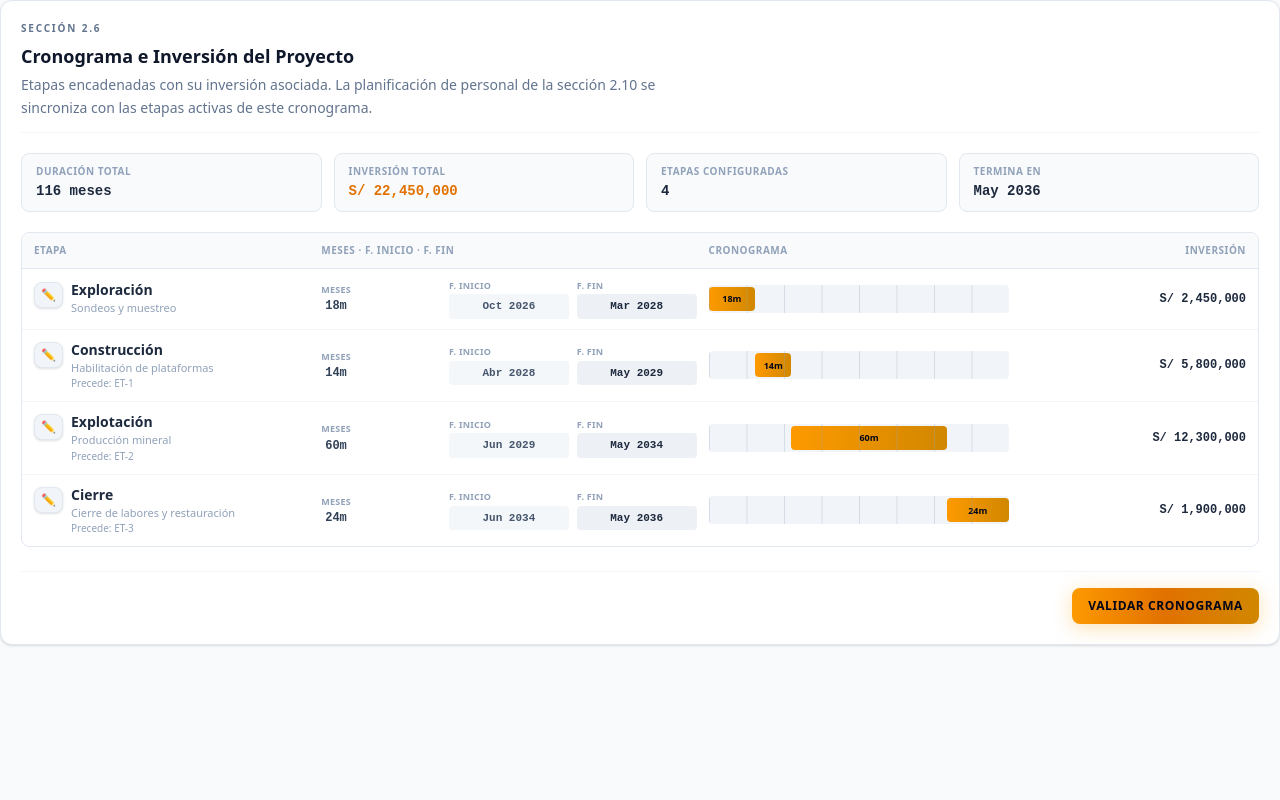
Scenario: CronogramaComponent › edición en línea de las etapas › recalcula la inversión total al escribir el monto
The width and height of the screenshot is (1280, 800).
Click the button with class "boton-editar" next to "Exploración". click: (48, 295)
box: [34,282,63,308]
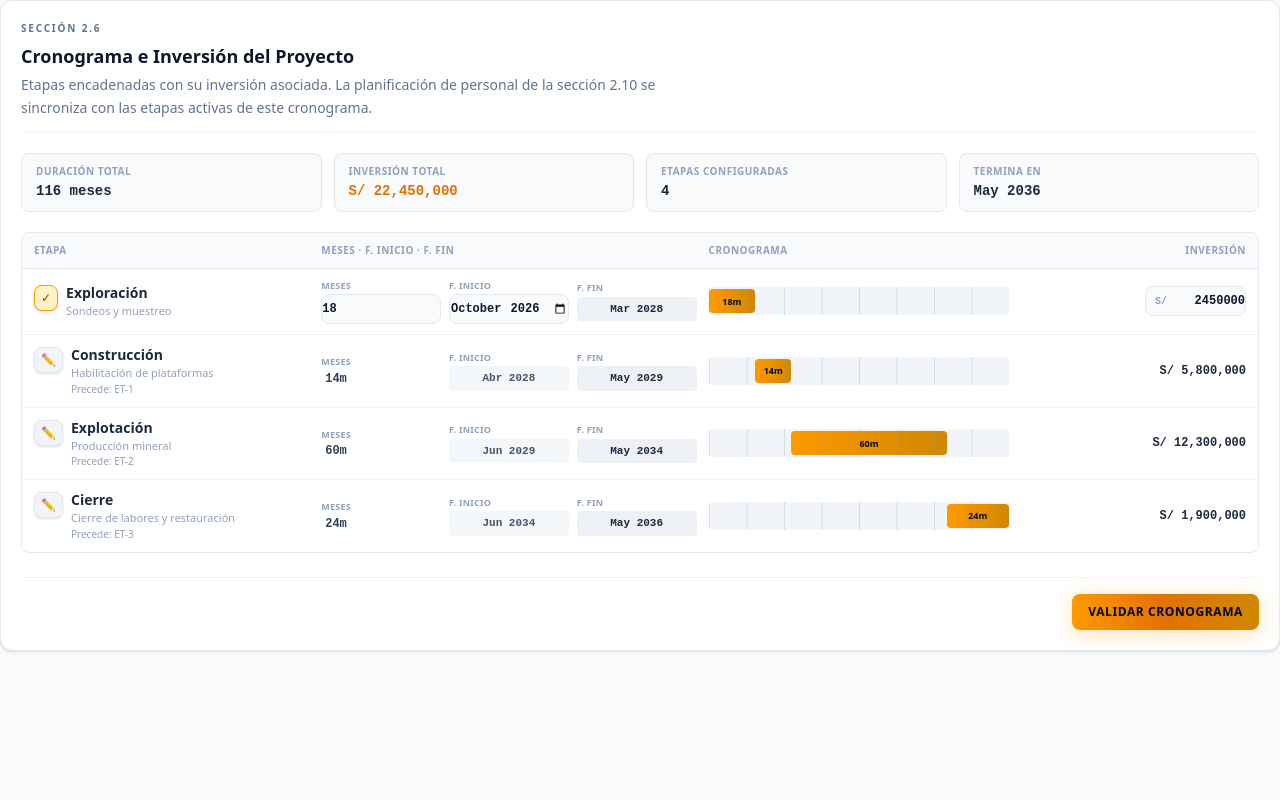
Replace the text in the number field with class "inline-input-dinero" with "1000". click: (1196, 301)
box: [1145,286,1246,316]
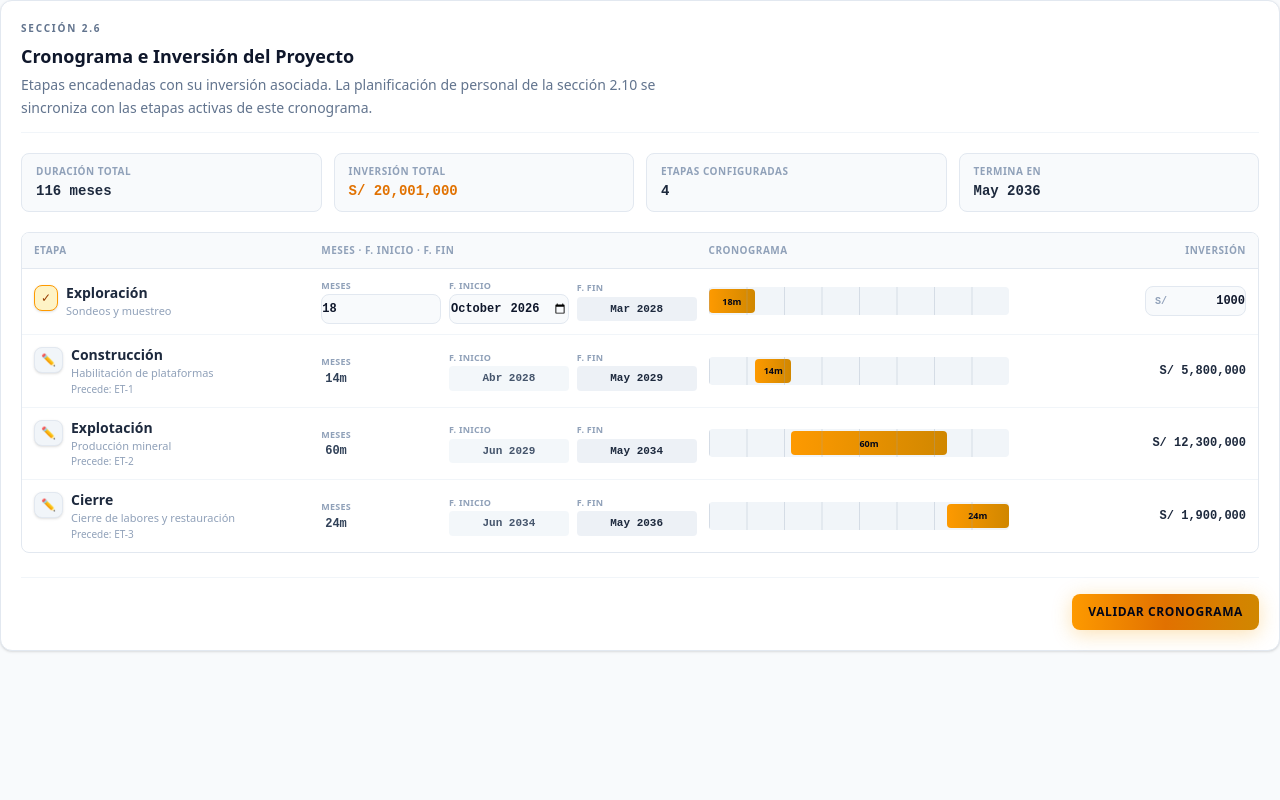
Expected: the text with class "dato" shows "20,001,000", [348,182,458,198]
